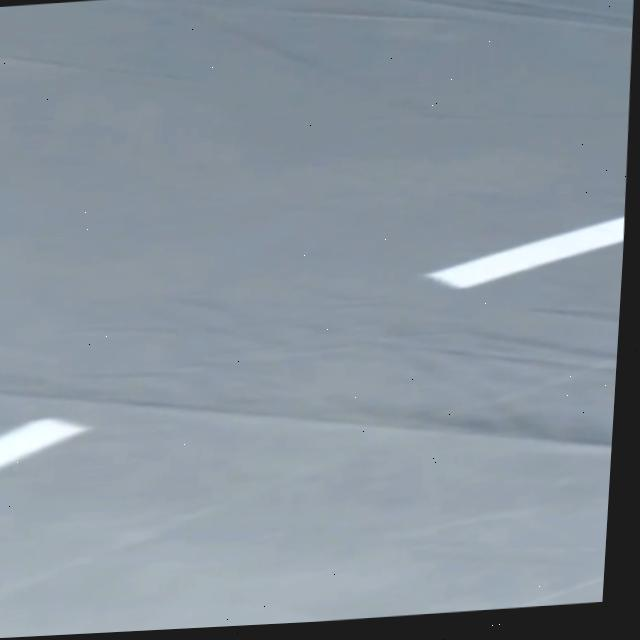center: (424, 216, 624, 287), (0, 418, 88, 468)
